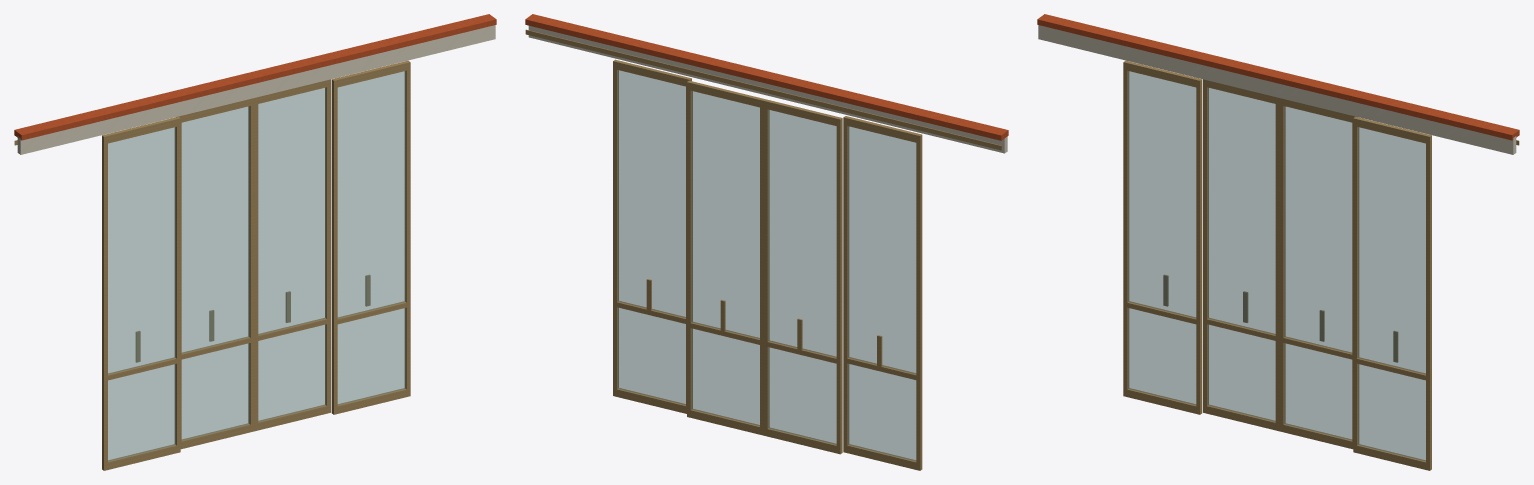
The model's file is retail_public_slider_r001.glb.
3 renders of one model, left to right at view 1: azimuth 30°, elevation 25°; view 2: azimuth 150°, elevation 25°; view 3: azimuth 330°, elevation 25°, orthographic.
Parts seen in each view (by area): view 1: Panel_L1_glass, Panel_R0_glass, Panel_R1_glass, Panel_L0_glass, track_back, track_cap, Panel_R0_stile_left, Panel_R0_stile_right, Panel_L1_stile_right, Panel_L0_stile_right, Panel_L0_stile_left, Panel_R1_stile_right (+14 smaller); view 2: Panel_L1_glass, Panel_R1_glass, Panel_L0_glass, Panel_R0_glass, track_cap, track_back, track_brass, Panel_L1_stile_left, Panel_L0_stile_left, Panel_L1_stile_right, Panel_L0_stile_right, Panel_R1_stile_right (+14 smaller); view 3: Panel_R1_glass, Panel_L0_glass, Panel_L1_glass, Panel_R0_glass, track_back, track_cap, Panel_L0_stile_right, Panel_L0_stile_left, Panel_R1_stile_left, Panel_R0_stile_left, Panel_R0_stile_right, Panel_L1_stile_left (+14 smaller).
Part boxes in pixels (x1,y1,x2,y2): Panel_L1_glass: [181, 106, 249, 440]; Panel_R0_glass: [337, 71, 405, 405]; Panel_R1_glass: [258, 87, 326, 421]; Panel_L0_glass: [108, 127, 176, 461]; track_back: [17, 25, 495, 154]; track_cap: [14, 14, 496, 140]; Panel_R0_stile_left: [331, 78, 337, 414]; Panel_R0_stile_right: [404, 60, 410, 396]; Panel_L1_stile_right: [248, 98, 254, 431]; Panel_L0_stile_right: [174, 116, 180, 452]; Panel_L0_stile_left: [102, 134, 107, 470]; Panel_R1_stile_right: [325, 79, 330, 413]; Panel_L1_glass: [768, 110, 836, 444]; Panel_R1_glass: [691, 91, 759, 426]; Panel_L0_glass: [848, 126, 916, 461]; Panel_R0_glass: [617, 70, 685, 405]; track_cap: [525, 14, 1008, 140]; track_back: [528, 25, 1007, 153]; track_brass: [525, 29, 1001, 150]; Panel_L1_stile_left: [836, 117, 842, 454]; Panel_L0_stile_left: [916, 133, 922, 470]; Panel_L1_stile_right: [763, 99, 769, 436]; Panel_L0_stile_right: [843, 116, 849, 452]; Panel_R1_stile_right: [687, 80, 692, 417]; Panel_R1_glass: [1284, 106, 1352, 440]; Panel_L0_glass: [1128, 71, 1196, 405]; Panel_L1_glass: [1207, 87, 1275, 421]; Panel_R0_glass: [1358, 127, 1425, 461]; track_back: [1038, 25, 1516, 154]; track_cap: [1037, 14, 1519, 140]; Panel_L0_stile_right: [1196, 78, 1202, 414]; Panel_L0_stile_left: [1123, 60, 1129, 396]; Panel_R1_stile_left: [1279, 98, 1285, 431]; Panel_R0_stile_left: [1353, 116, 1359, 452]; Panel_R0_stile_right: [1426, 134, 1431, 470]; Panel_L1_stile_left: [1203, 79, 1208, 413].
Bounding box in the file's own units: 5.58 × 4.01 × 0.195.
4 materials, 3 textured.
